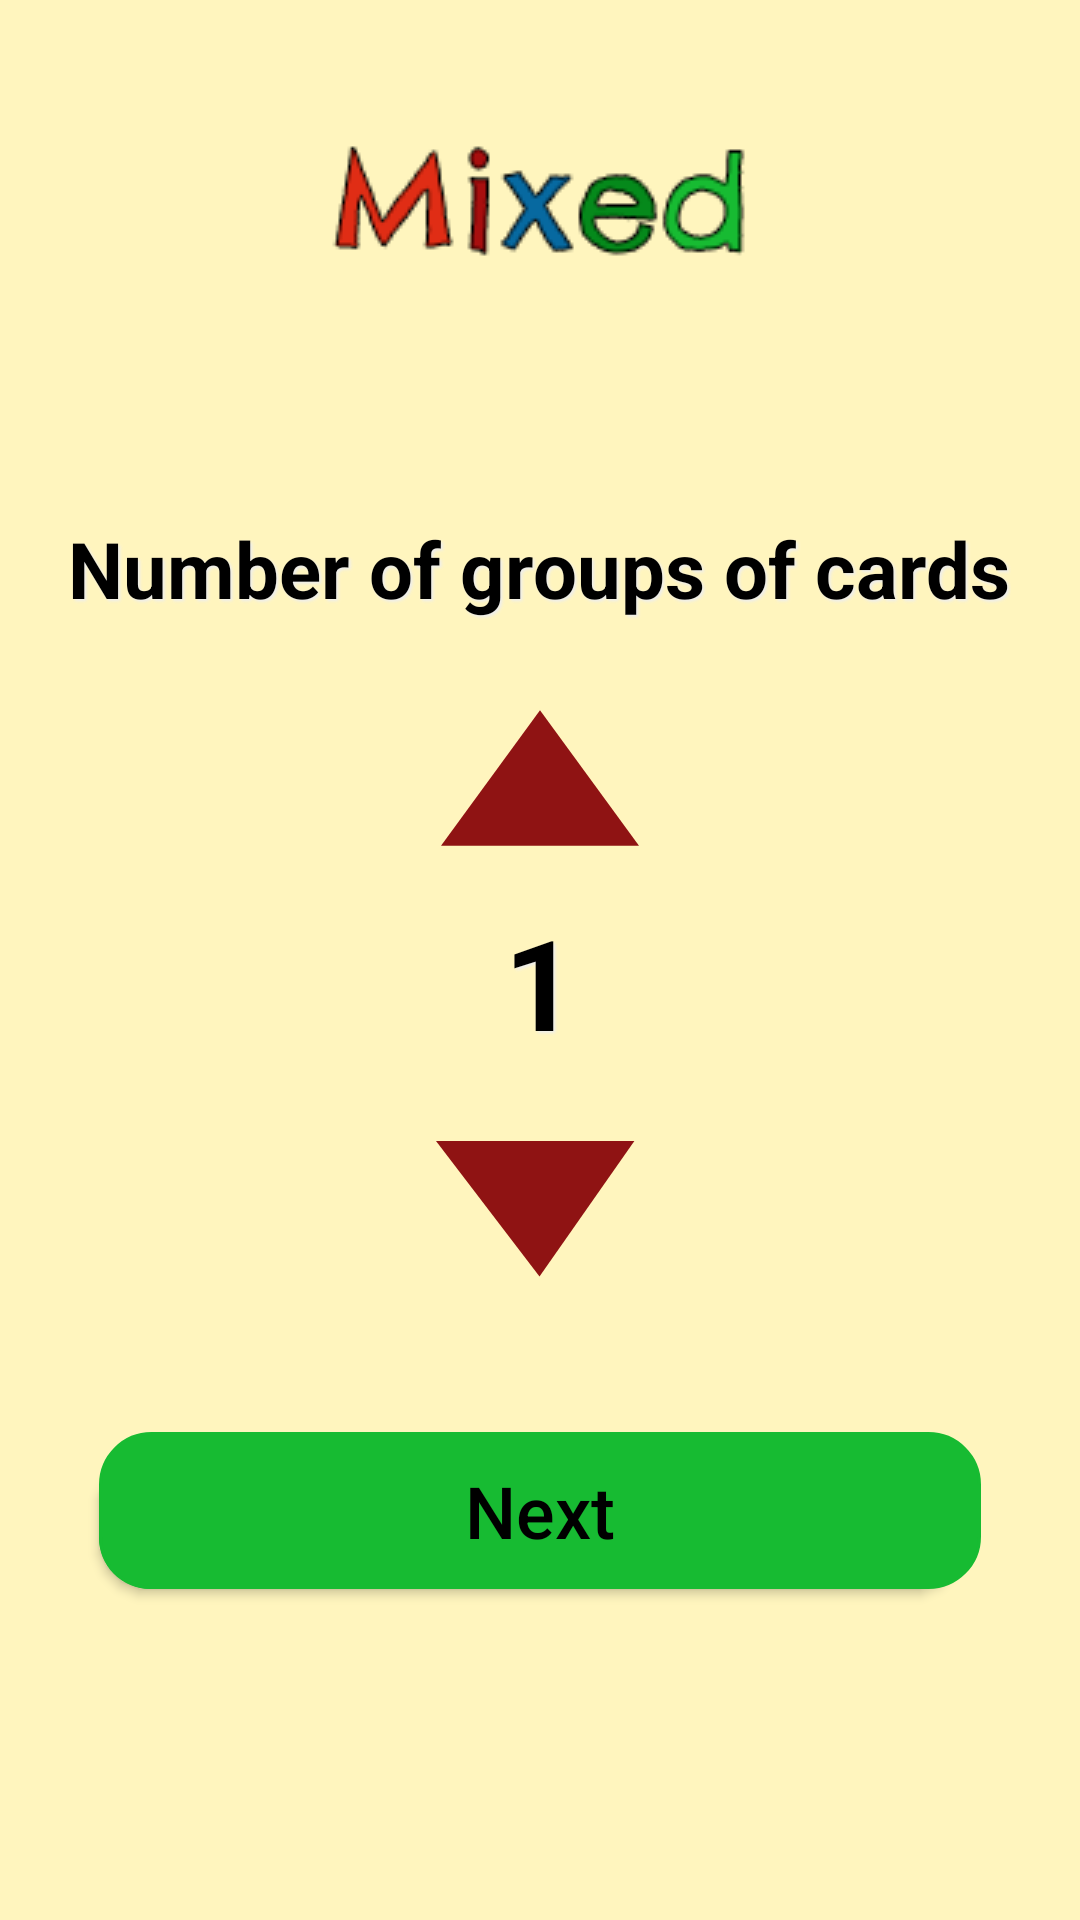

Point at icon controls on the screen. Image size 1080 × 1920, points as [x,y].
of cards triangle down: [535,1209]
of cards triangle up: [540,778]
